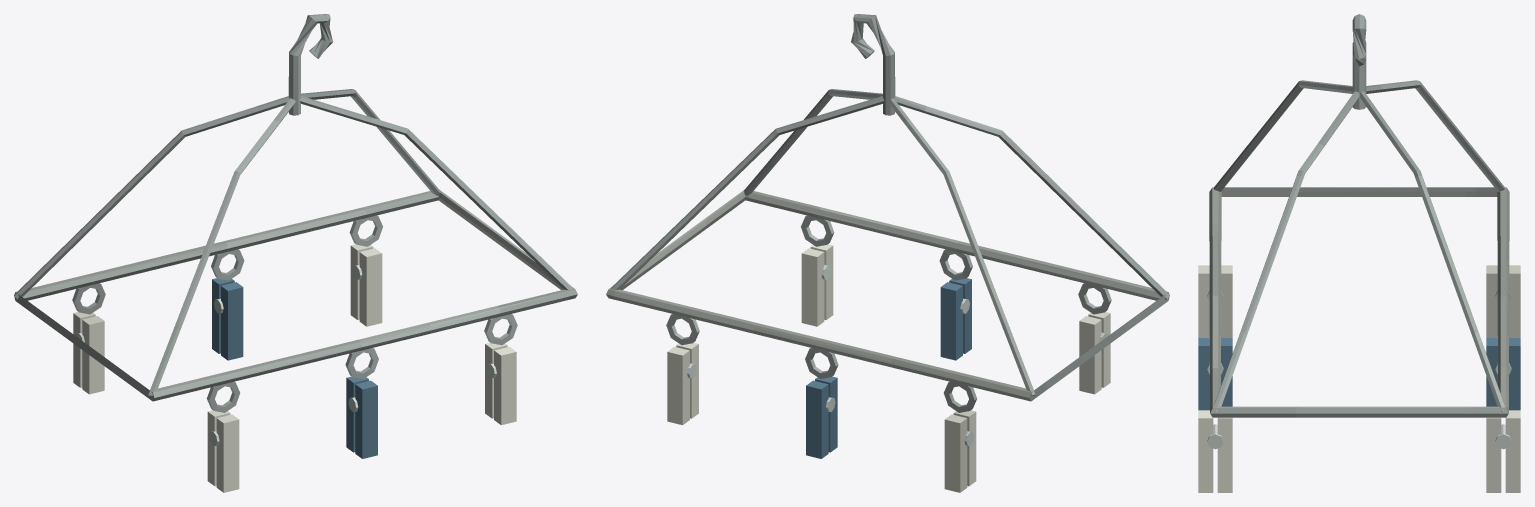
File: clip-hanger.glb
3 renders of one model, left to right at view 1: azimuth 30°, elevation 25°; view 2: azimuth 150°, elevation 25°; view 3: azimuth 270°, elevation 25°, orthographic. The views are drawn at different scales.
Parts seen in each view (by area): view 1: clip-hanger/closed-wire-frame, clip-hanger/suspension-3, clip-hanger/suspension-1, clip-hanger/suspension-0, clip-hanger/clip-jaw-1-2--1, clip-hanger/clip-jaw--1-0--1, clip-hanger/open-hook, clip-hanger/clip-jaw-1-1--1, clip-hanger/clip-jaw--1-2--1, clip-hanger/clip-jaw--1-1--1, clip-hanger/clip-jaw-1-0--1, clip-hanger/suspension-2 (+6 smaller); view 2: clip-hanger/closed-wire-frame, clip-hanger/suspension-0, clip-hanger/suspension-2, clip-hanger/suspension-3, clip-hanger/clip-jaw--1-2-1, clip-hanger/clip-jaw-1-0-1, clip-hanger/open-hook, clip-hanger/clip-jaw--1-1-1, clip-hanger/clip-jaw-1-2-1, clip-hanger/clip-jaw-1-1-1, clip-hanger/clip-jaw--1-0-1, clip-hanger/suspension-1 (+6 smaller); view 3: clip-hanger/closed-wire-frame, clip-hanger/suspension-1, clip-hanger/suspension-2, clip-hanger/suspension-0, clip-hanger/suspension-3, clip-hanger/clip-jaw--1-2--1, clip-hanger/clip-jaw-1-2-1, clip-hanger/open-hook, clip-hanger/clip-jaw--1-2-1, clip-hanger/clip-jaw-1-2--1, clip-hanger/clip-jaw--1-0--1, clip-hanger/clip-jaw--1-0-1 (+6 smaller).
Part boxes in pixels (x1,y1,x2,y2): clip-hanger/closed-wire-frame: (14,190,577,401); clip-hanger/suspension-3: (14,96,289,299); clip-hanger/suspension-1: (299,96,572,290); clip-hanger/suspension-0: (148,98,295,395); clip-hanger/clip-jaw-1-2--1: (359,248,382,326); clip-hanger/clip-jaw--1-0--1: (216,414,239,492); clip-hanger/open-hook: (288,14,332,115); clip-hanger/clip-jaw-1-1--1: (221,282,243,360); clip-hanger/clip-jaw--1-2--1: (494,346,516,425); clip-hanger/clip-jaw--1-1--1: (355,380,377,458); clip-hanger/clip-jaw-1-0--1: (82,316,104,394); clip-hanger/suspension-2: (301,89,439,195); clip-hanger/closed-wire-frame: (606,190,1169,401); clip-hanger/suspension-0: (894,96,1169,299); clip-hanger/suspension-2: (611,96,884,290); clip-hanger/suspension-3: (888,98,1035,395); clip-hanger/clip-jaw--1-2-1: (801,248,824,326); clip-hanger/clip-jaw-1-0-1: (944,414,967,492); clip-hanger/open-hook: (851,14,895,115); clip-hanger/clip-jaw--1-1-1: (940,282,962,360); clip-hanger/clip-jaw-1-2-1: (667,346,689,425); clip-hanger/clip-jaw-1-1-1: (806,380,828,458); clip-hanger/clip-jaw--1-0-1: (1079,316,1101,394); clip-hanger/suspension-1: (744,89,882,195); clip-hanger/closed-wire-frame: (1209,187,1509,417); clip-hanger/suspension-1: (1214,91,1359,411); clip-hanger/suspension-2: (1359,91,1504,411); clip-hanger/suspension-0: (1214,80,1352,191); clip-hanger/suspension-3: (1366,80,1504,191); clip-hanger/clip-jaw--1-2--1: (1198,410,1213,492); clip-hanger/clip-jaw-1-2-1: (1505,410,1520,492); clip-hanger/open-hook: (1352,14,1366,109); clip-hanger/clip-jaw--1-2-1: (1217,417,1232,492); clip-hanger/clip-jaw-1-2--1: (1486,417,1501,492); clip-hanger/clip-jaw--1-0--1: (1198,265,1209,337); clip-hanger/clip-jaw--1-0-1: (1221,265,1232,337).
Size of the model in its own units: 0.3848 by 0.3297 by 0.235.
Materials: 3 (3 with a texture image).
